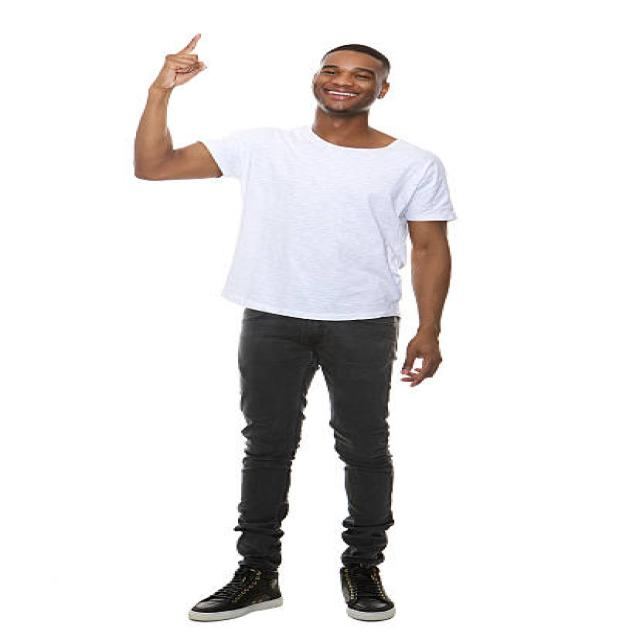Edited images: (130, 18, 492, 631)
